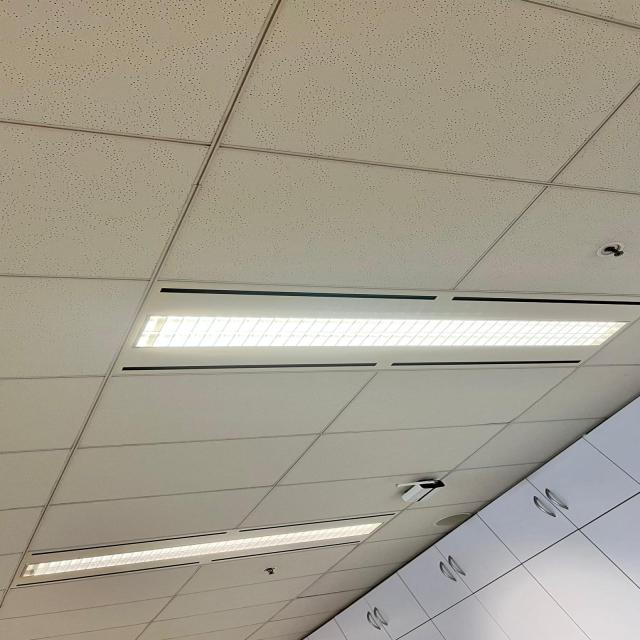Light-Opened: (112, 283, 640, 372), (5, 513, 395, 588)
